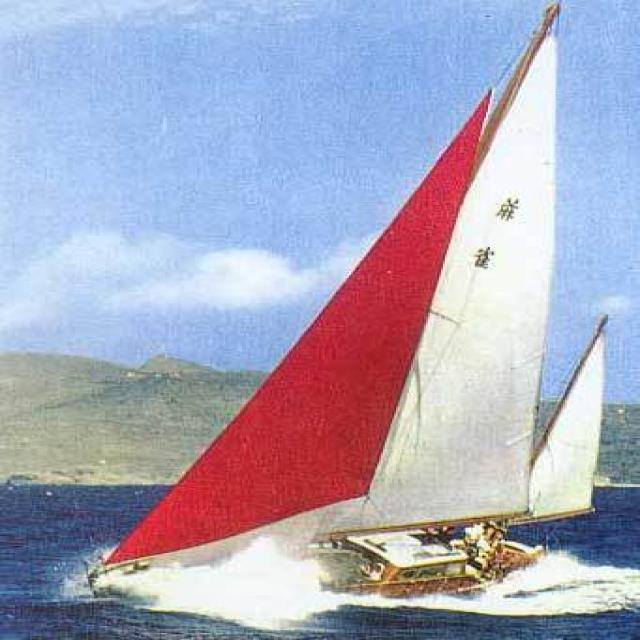Ship: (48, 12, 640, 601)
